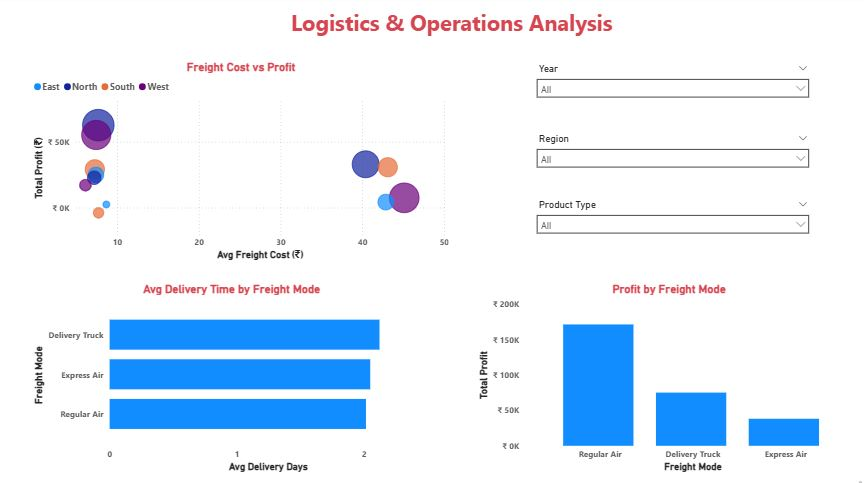

This screenshot's page, from the dashboard's own definition file:
{"tool":"powerbi","page":{"name":"Logistics","canvas":[1280,720],"ordinal":3},"visuals":[{"type":"clusteredBarChart","title":"Avg Delivery Time by Freight Mode","fields":{"Category":["Fact_Retail_Sales.Freight Mode"],"Y":["Measure.Avg Delivery Days"]},"box":[47.9,420.4,593,283.7],"z":0},{"type":"clusteredColumnChart","title":"Profit by Freight Mode","fields":{"Category":["Fact_Retail_Sales.Freight Mode"],"Y":["Measure.Total Profit"]},"box":[702.4,420.4,570.8,283.7],"z":1000},{"type":"scatterChart","title":"Freight Cost vs Profit","fields":{"X":["Measure.Avg Freight Expenses"],"Y":["Measure.Total Profit"],"Size":["Measure.Total Sales"],"Series":["Dim_Geography.Region"],"Category":["Fact_Retail_Sales.Freight Mode"]},"box":[47.9,94,620.3,299.1],"z":2000},{"type":"slicer","fields":{"Values":["Dim_Date.Year"]},"box":[782.7,94,420.4,66.6],"z":3000},{"type":"slicer","fields":{"Values":["Dim_Geography.Region"]},"box":[782.7,196.5,420.4,66.6],"z":4000},{"type":"slicer","fields":{"Values":["Dim_Product.Product Type"]},"box":[782.7,293.9,420.4,66.6],"z":5000},{"type":"textbox","box":[42.7,12,1189.4,59.8],"z":6000}]}

Visuals, with their boxes in screenshot pixels (x1, y1, x2, y2), scaled from the page's 1280x720 canvas onto the 864x483 screenshot:
"Avg Delivery Time by Freight Mode" clusteredBarChart: crop(32, 282, 433, 472)
"Profit by Freight Mode" clusteredColumnChart: crop(474, 282, 859, 472)
"Freight Cost vs Profit" scatterChart: crop(32, 63, 451, 264)
slicer - Dim_Date.Year: crop(528, 63, 812, 108)
slicer - Dim_Geography.Region: crop(528, 132, 812, 176)
slicer - Dim_Product.Product Type: crop(528, 197, 812, 242)
textbox: crop(29, 8, 832, 48)
